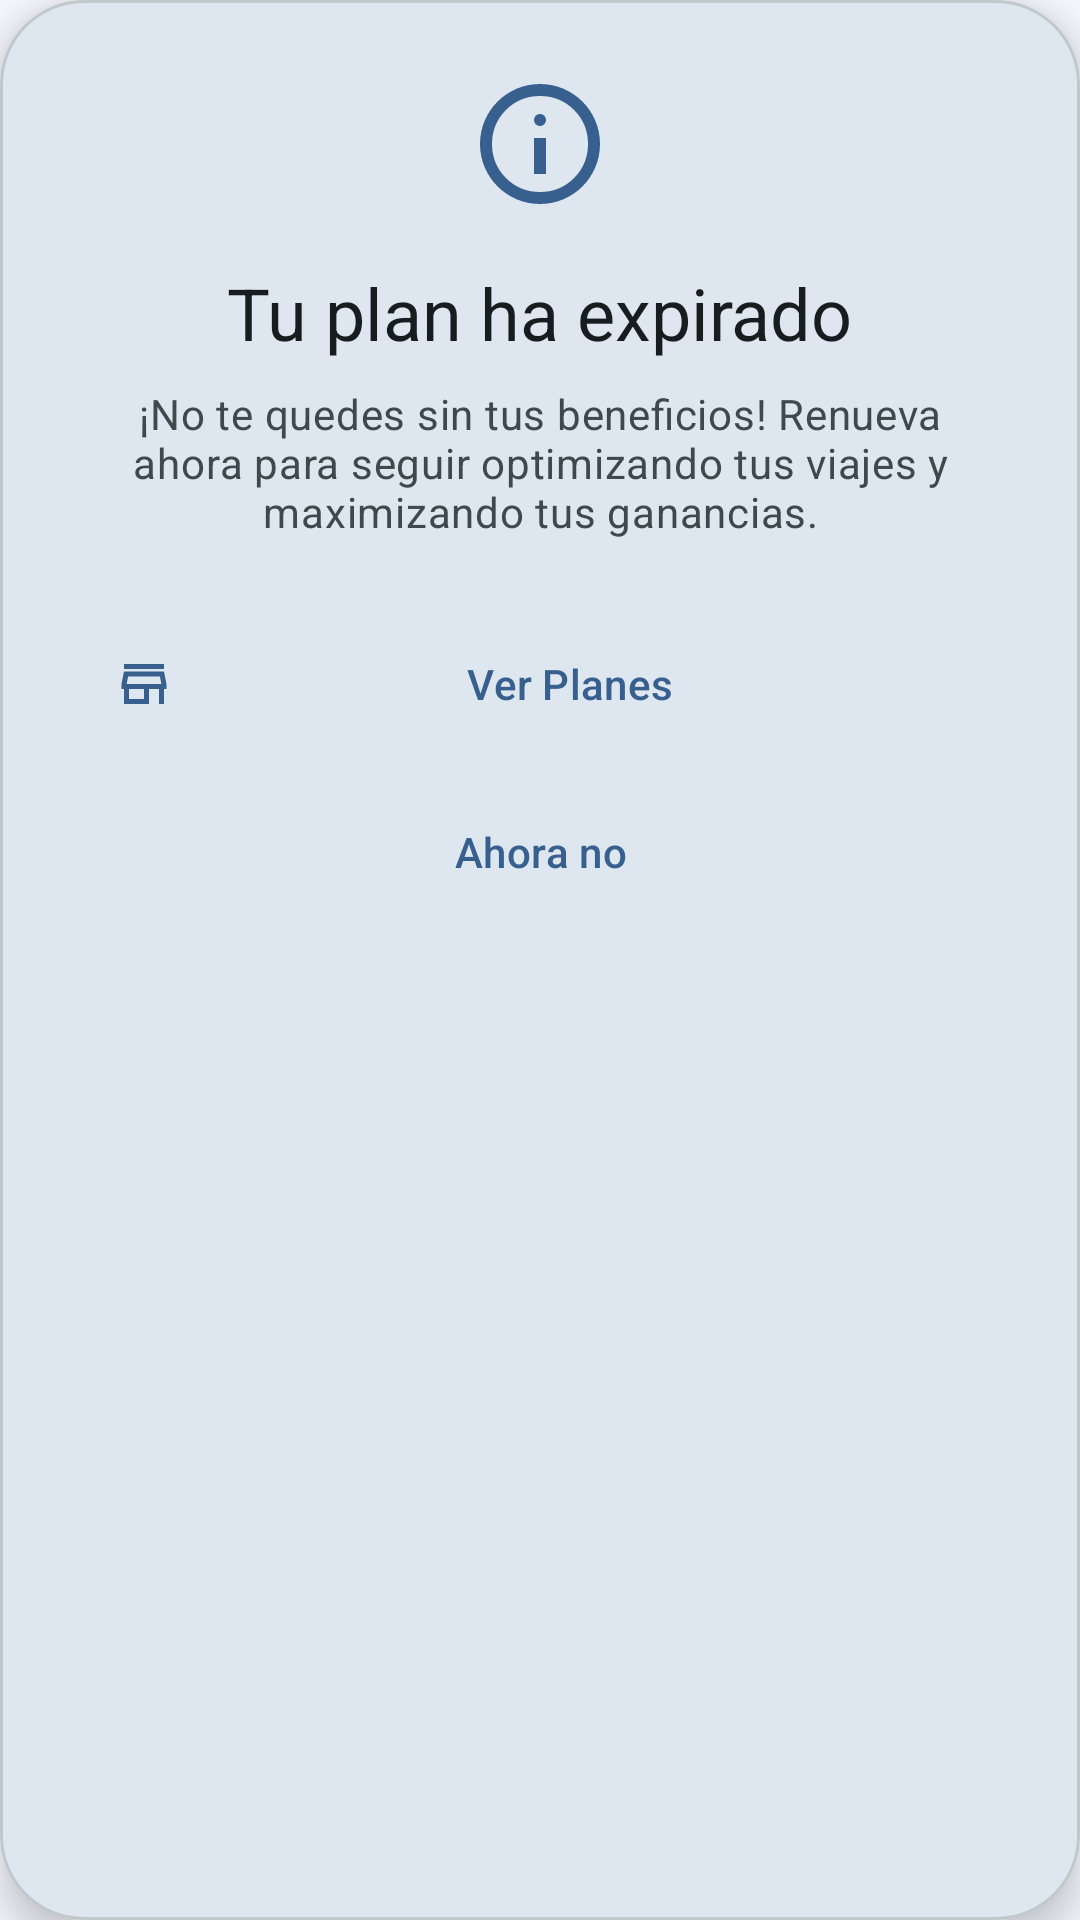

Locate icon controls on the screen. Image size 1080 × 1920, boxes as (x1, y1, x2, y2).
info: (480, 84, 600, 204)
